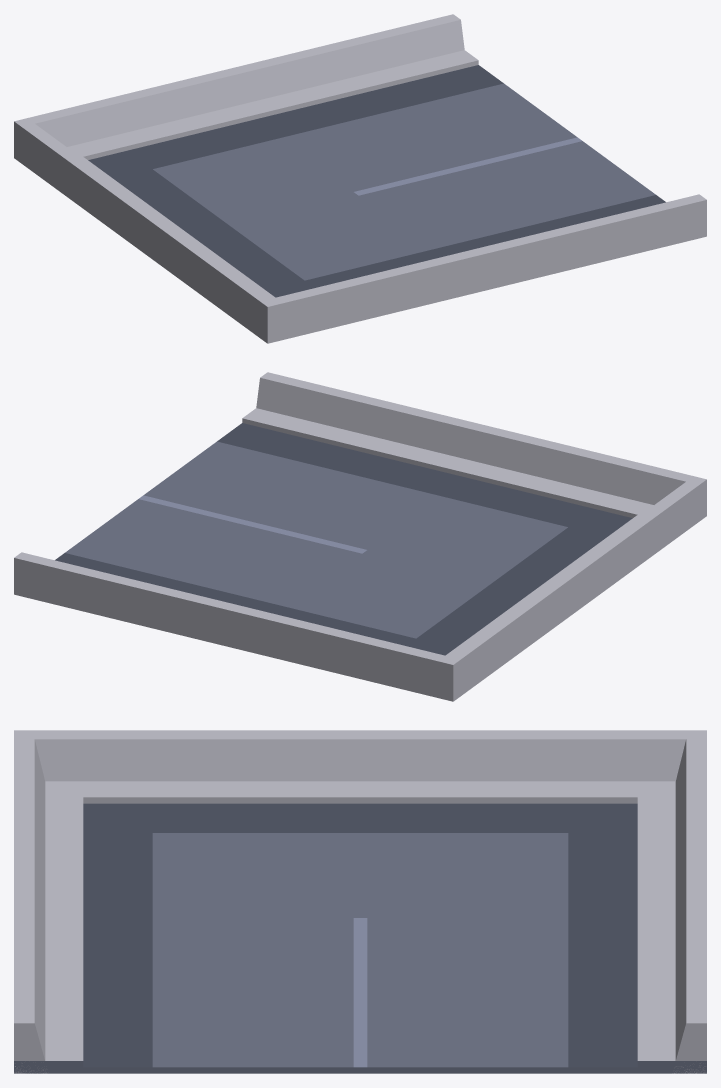
Rendered from road_end.glb.
The picture shows the model from 3 angles, top to bottom: view 1: azimuth 30°, elevation 25°; view 2: azimuth 150°, elevation 25°; view 3: azimuth 270°, elevation 25°; orthographic projection. The views are drawn at different scales.
Parts seen in each view (by area): view 1: road_end_1f2c8d, road_end_5b1669, road_end_ad7661, road_end_8fd67a, road_end_d6e642; view 2: road_end_1f2c8d, road_end_5b1669, road_end_ad7661, road_end_8fd67a, road_end_d6e642; view 3: road_end_1f2c8d, road_end_5b1669, road_end_ad7661, road_end_8fd67a, road_end_d6e642.
Part boxes in pixels (x1,y1,x2,y2): road_end_1f2c8d: [153, 83, 655, 280]; road_end_5b1669: [14, 14, 706, 343]; road_end_ad7661: [88, 65, 665, 297]; road_end_8fd67a: [14, 50, 706, 343]; road_end_d6e642: [354, 137, 581, 195]; road_end_1f2c8d: [65, 441, 567, 638]; road_end_5b1669: [14, 372, 706, 700]; road_end_ad7661: [55, 423, 632, 655]; road_end_8fd67a: [14, 408, 706, 701]; road_end_d6e642: [139, 495, 366, 553]; road_end_1f2c8d: [14, 833, 706, 1073]; road_end_5b1669: [14, 730, 706, 1073]; road_end_ad7661: [83, 803, 637, 1067]; road_end_8fd67a: [45, 781, 675, 1060]; road_end_d6e642: [353, 918, 367, 1067].
Bounding box in the file's own units: 1 × 0.08 × 1.
